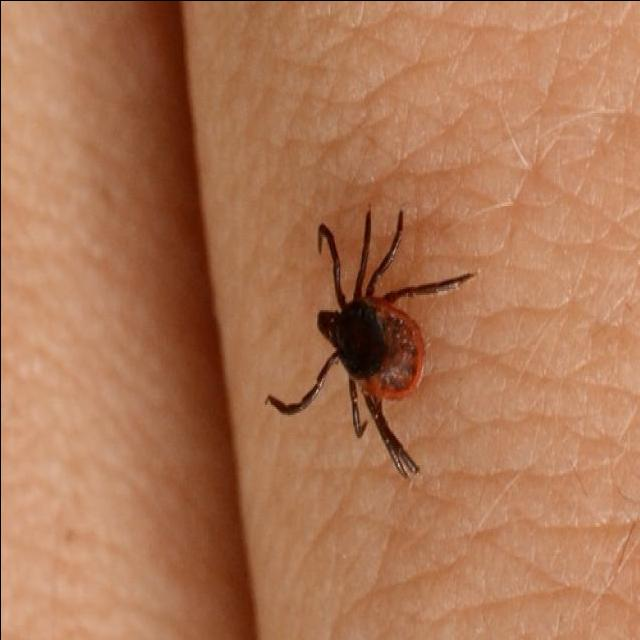Ixodes Ricinus-F: (264, 207, 474, 478)
